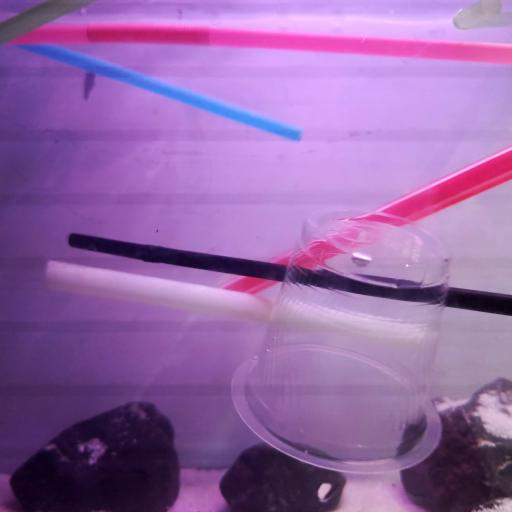plastic_cup: (230, 209, 444, 480)
plastic_straw: (223, 144, 512, 293), (66, 228, 512, 318), (44, 256, 442, 349), (23, 39, 303, 145), (12, 23, 512, 73), (2, 2, 77, 48)
